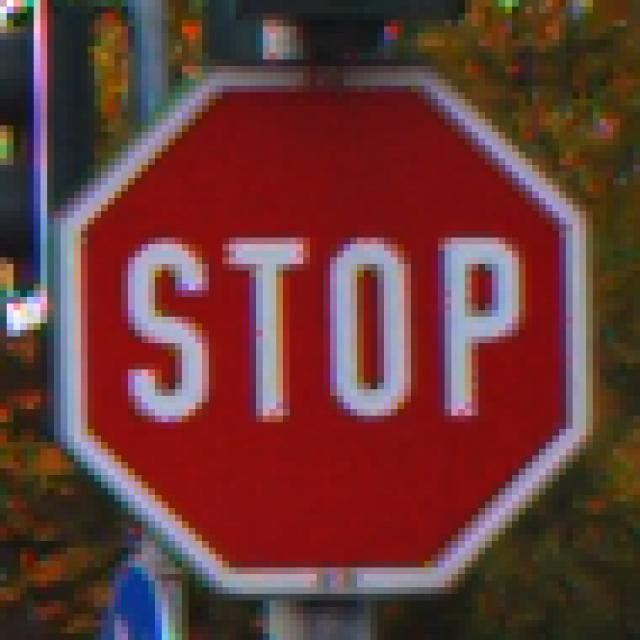STOP: (62, 61, 587, 589)
